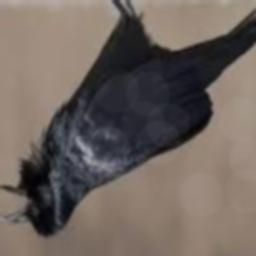Crow: (0, 0, 256, 239)
